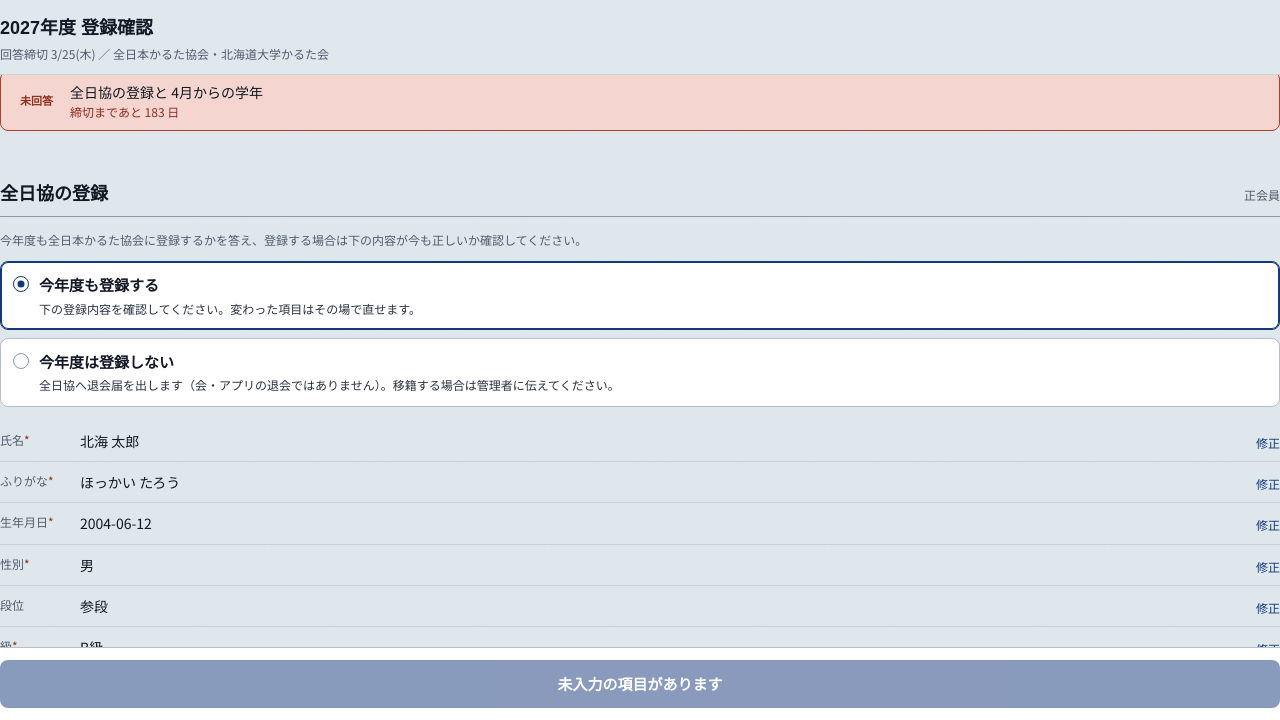
必須欠落でボタン無効（AC-5） › 「今年度は登録しない」を選ぶと必須欠落があってもボタンは有効になる
What coordinates should you click on to do the following:
click the radio button labelled "今年度は登録しない 全日協へ退会届を出します（会・アプリの退会ではありません）。移籍する場合は管理者に伝えてください。"
I would click on:
 (107, 362)
Its box is [0,338,1279,407].
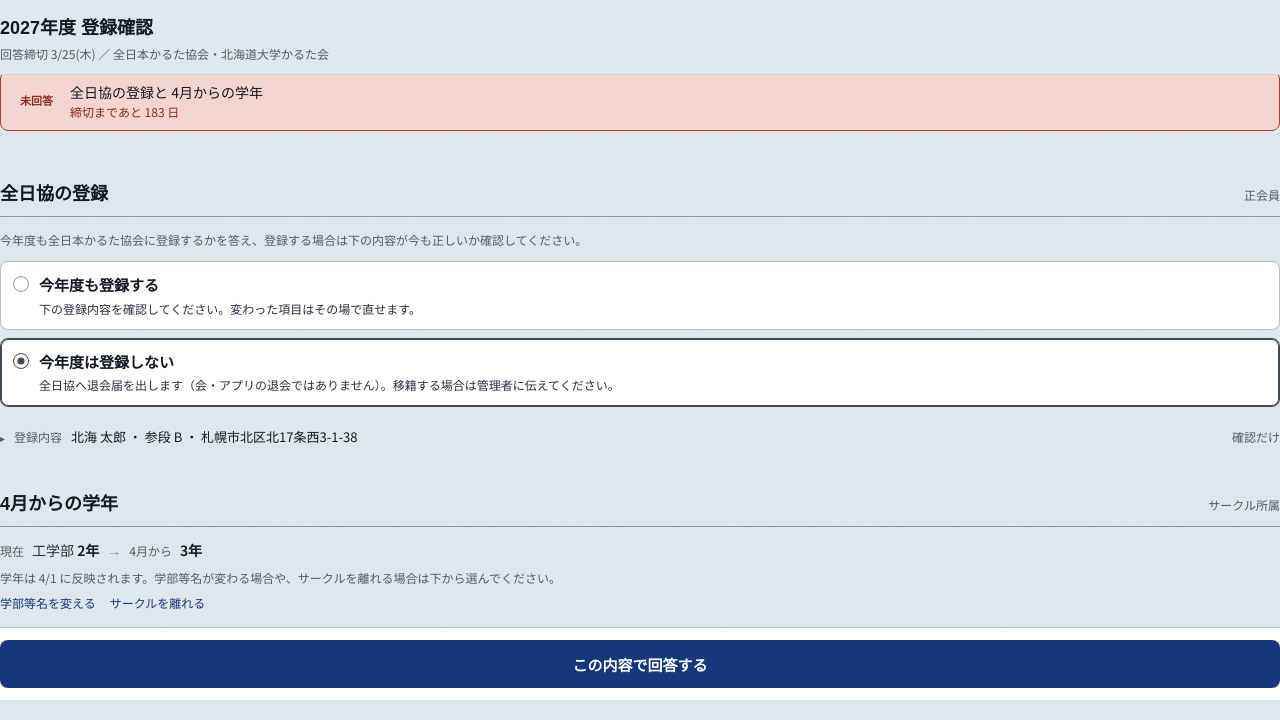
expect the button "この内容で回答する" is enabled: met, box [0,640,1279,688]
